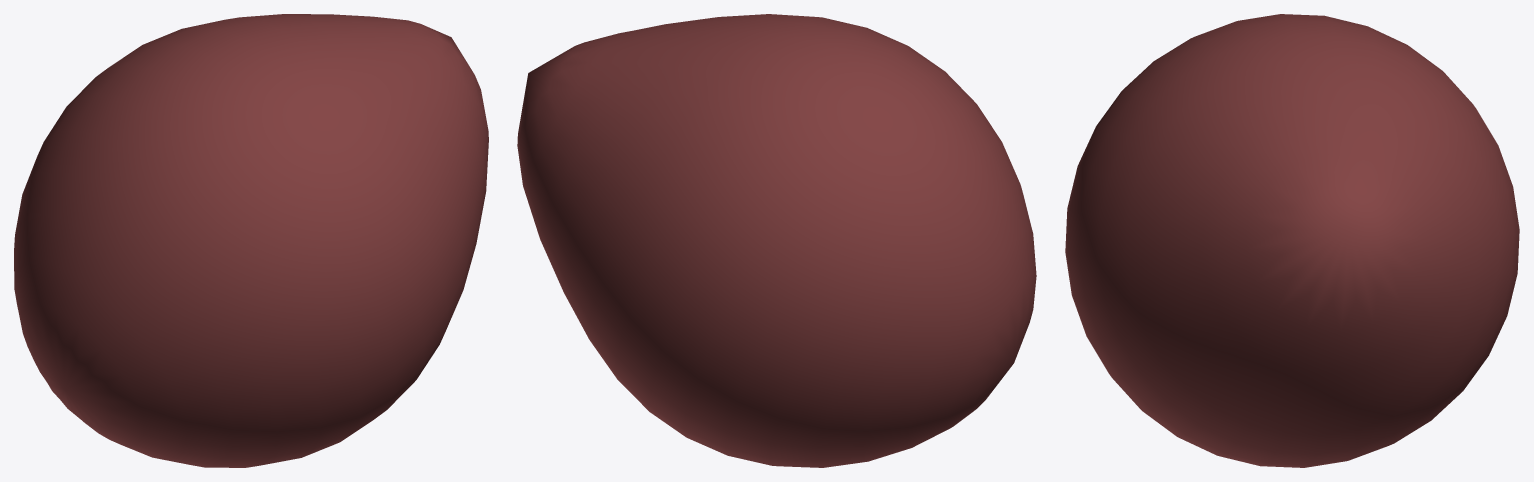
The model's file is coco.fbx.
3 renders of one model, left to right at view 1: azimuth 30°, elevation 25°; view 2: azimuth 150°, elevation 25°; view 3: azimuth 270°, elevation 25°, orthographic. The views are drawn at different scales.
Parts seen in each view (by area): view 1: Sphere; view 2: Sphere; view 3: Sphere.
Boxes of the visible parts, x1,y1,x2,y2 form: Sphere: [14, 14, 488, 467]; Sphere: [517, 14, 1036, 467]; Sphere: [1065, 14, 1519, 467].
Size of the model in its own units: 223 by 191 by 190.
